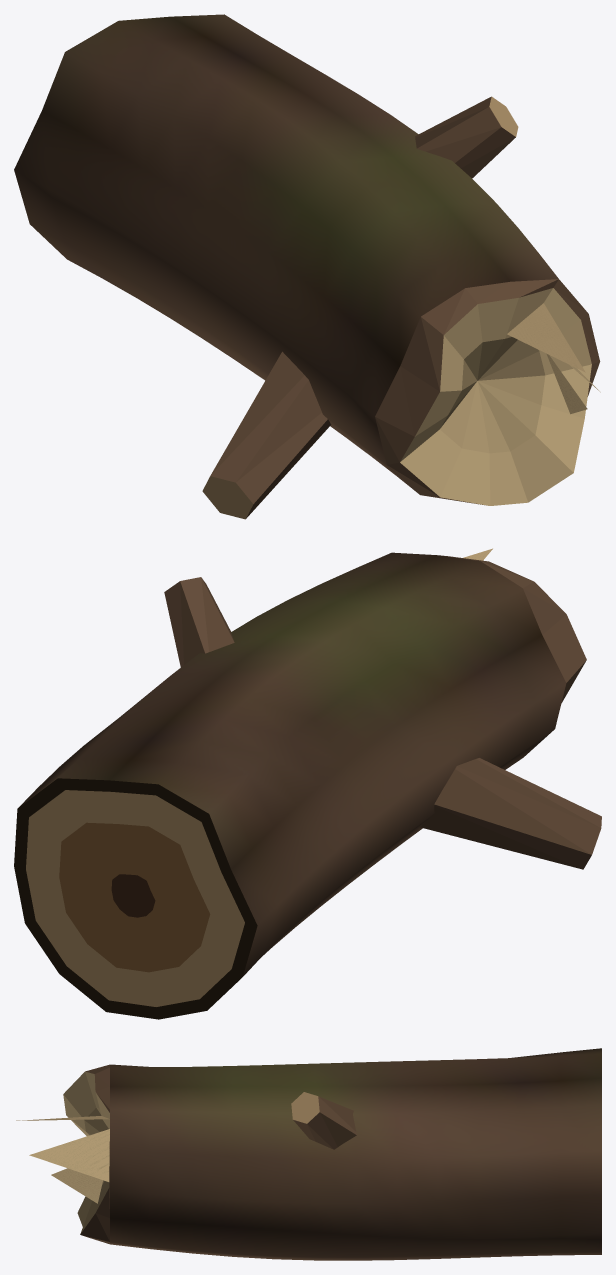
The model's file is log-large-a.glb.
The picture shows the model from 3 angles, top to bottom: view 1: azimuth 30°, elevation 25°; view 2: azimuth 150°, elevation 25°; view 3: azimuth 270°, elevation 25°; orthographic projection. The views are drawn at different scales.
Parts seen in each view (by area): view 1: log-large-a; view 2: log-large-a; view 3: log-large-a.
Part boxes in pixels (bbox=[...]): log-large-a: bbox=[14, 14, 600, 519]; log-large-a: bbox=[14, 548, 601, 1019]; log-large-a: bbox=[16, 1048, 601, 1260].
Bounding box in the file's own units: 0.6164 × 0.4322 × 1.15.
